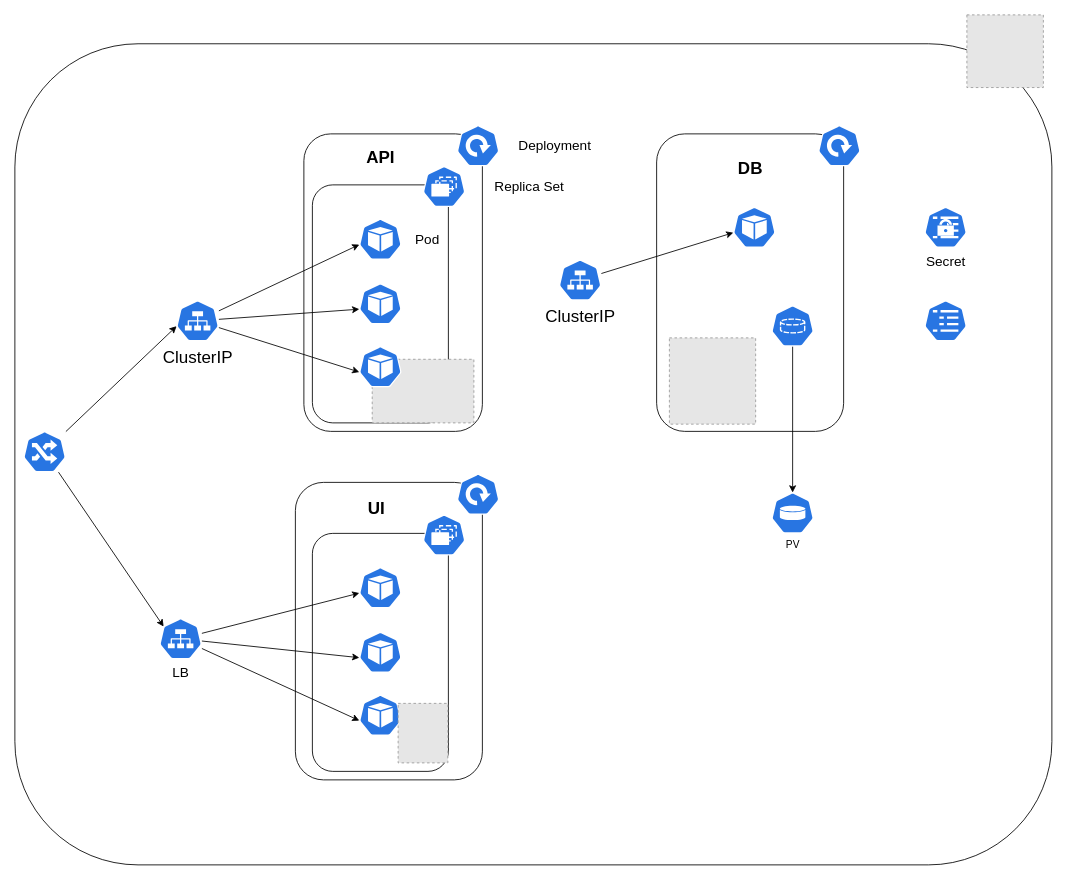
Image size: 1067x880. Some labels were removed from this diagram. Grey dashed boxes stand in for pictures. Each missing label, with the centre of its shape:
"ConfigMap" belongs at pixel 945 320.
"PVC" belongs at pixel 792 325.
